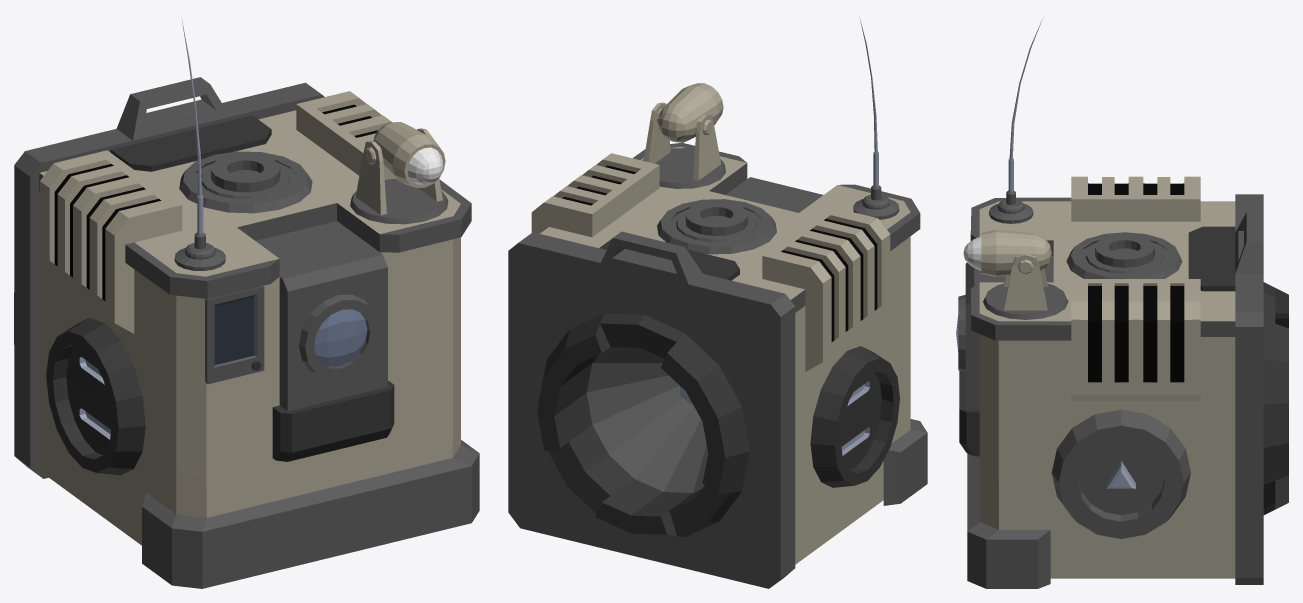
File: SM_Body.fbx
3 renders of one model, left to right at view 1: azimuth 30°, elevation 25°; view 2: azimuth 150°, elevation 25°; view 3: azimuth 270°, elevation 25°, orthographic. The views are drawn at different scales.
Visible parts, largest first — view 1: 立方体.144; view 2: 立方体.144; view 3: 立方体.144.
Part boxes in pixels (left/top/right/bottom): 立方体.144: left=14, top=19, right=479, bottom=588; 立方体.144: left=508, top=16, right=927, bottom=588; 立方体.144: left=956, top=18, right=1288, bottom=588.
Bounding box in the file's own units: 116 × 117 × 183.
